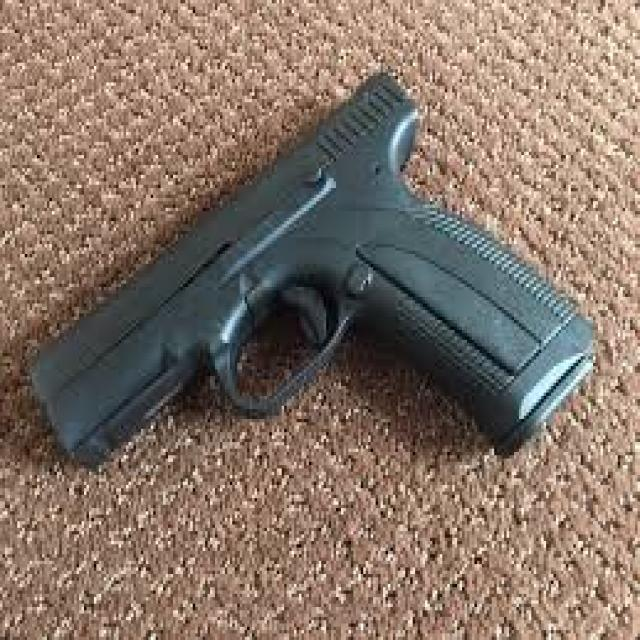Gun: (10, 69, 632, 472)
